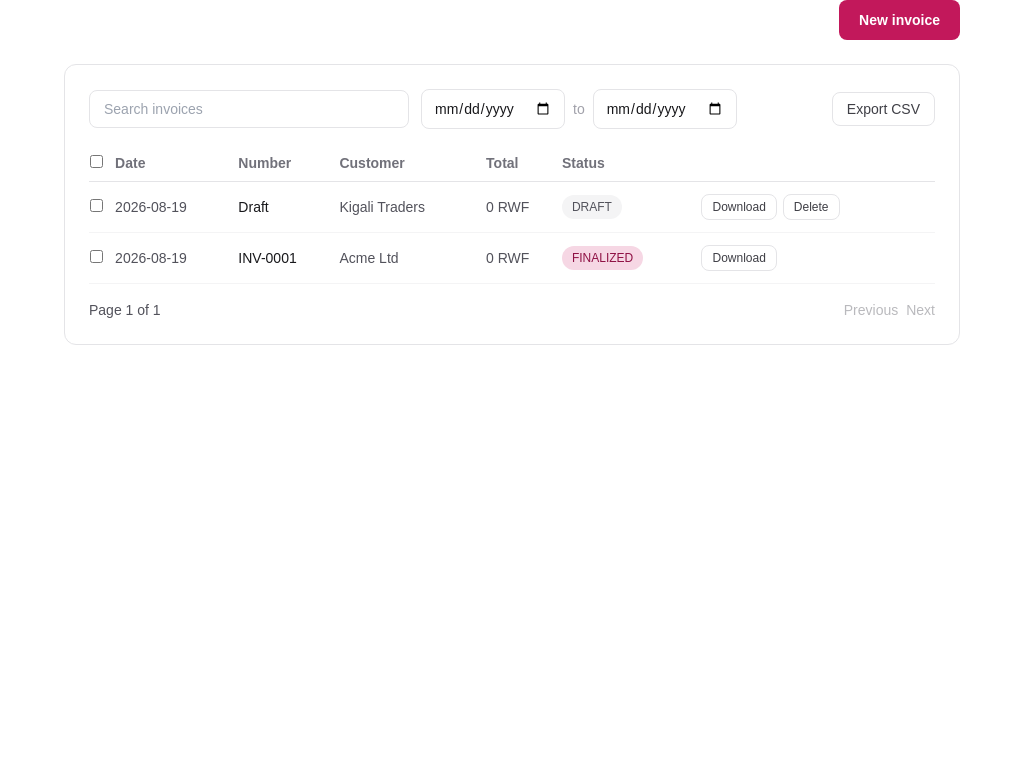
Documents › deletes a single draft from its row, and offers no delete on a finalized document
expect the text "Kigali Traders" is shown: met, box left=338, top=182, right=485, bottom=232
Click the button with aria-label "Delete draft Kigali Traders".
click(811, 207)  # box left=783, top=194, right=840, bottom=220
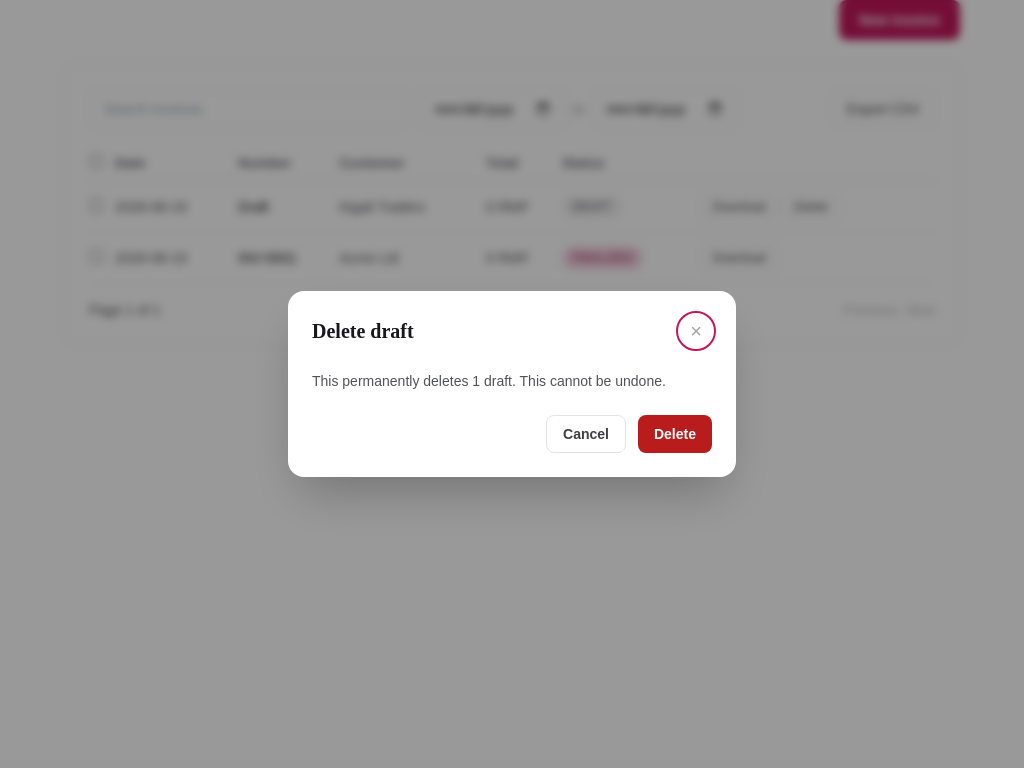
Click the button "Delete".
click(675, 434)  # box left=638, top=415, right=712, bottom=453
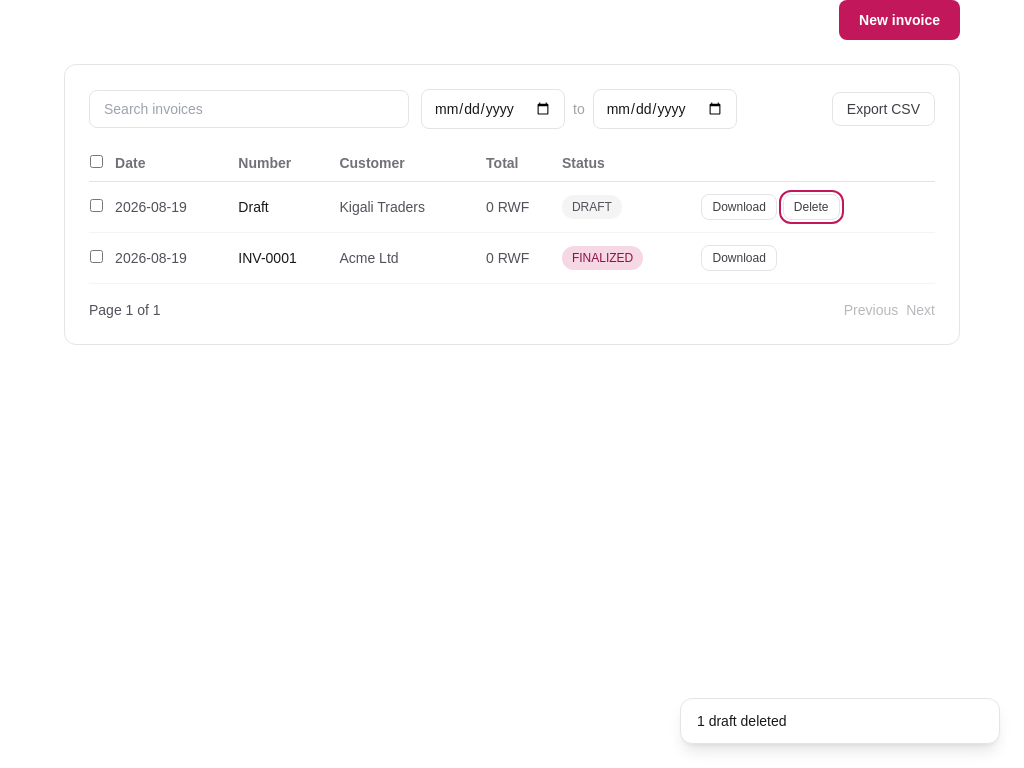
expect the text "1 draft deleted" is shown: met, box left=697, top=713, right=786, bottom=729
